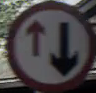Two way: (10, 11, 82, 74)
